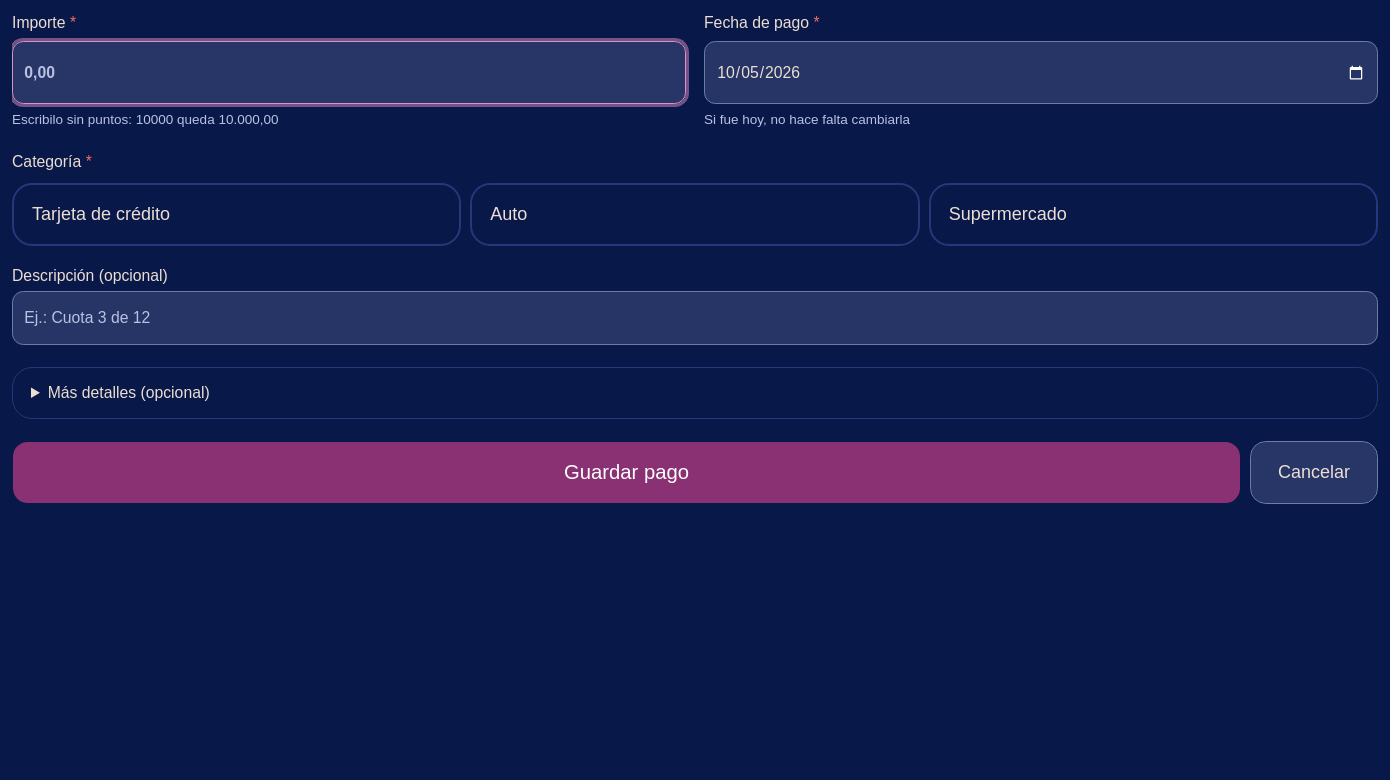
Formulario de pago › pide importe y categoría
The image size is (1390, 780).
What coordinates should you click on to do the following:
click the button "Guardar pago"
I would click on:
 (626, 473)
Its box is 12,442 -> 1241,504.
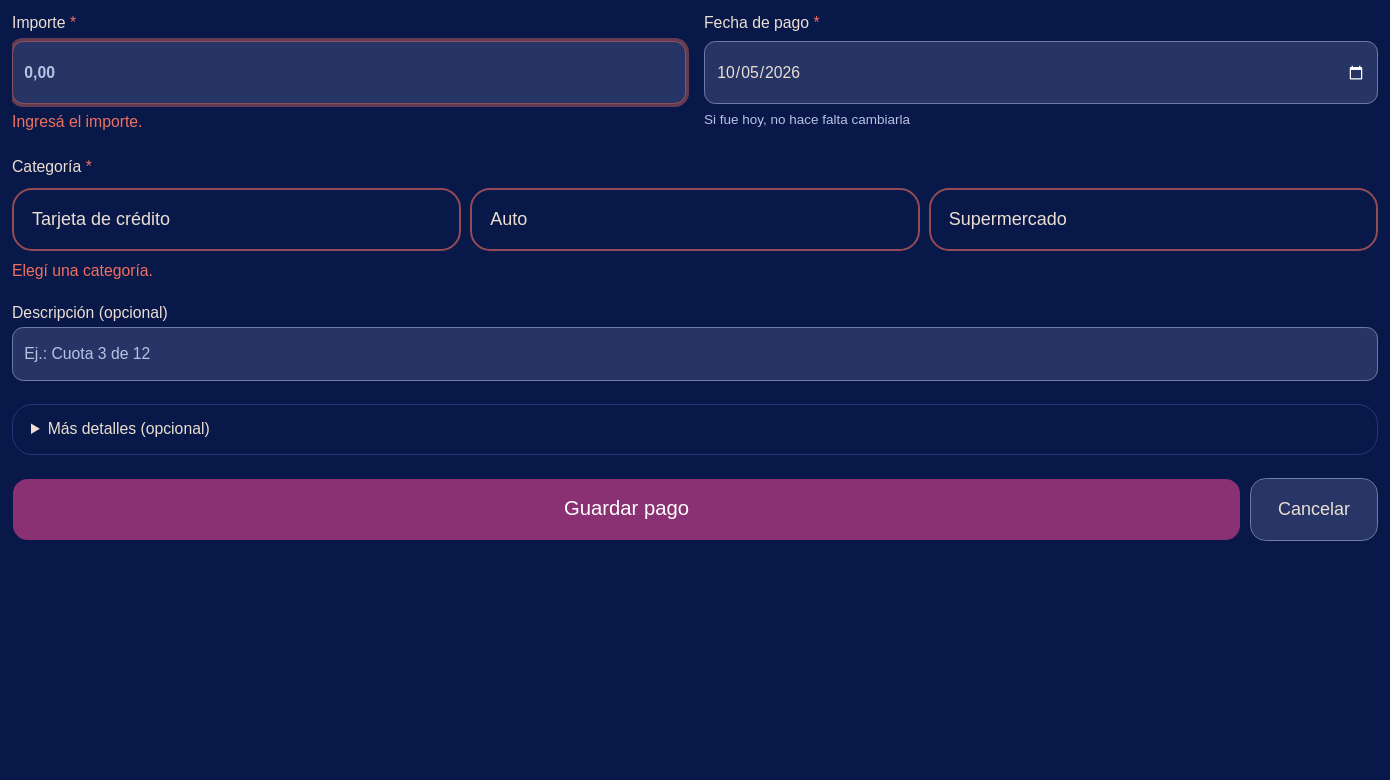
Check: the text "Ingresá el importe." is shown, box 12,113 -> 142,130
Check: the text "Elegí una categoría." is shown, box 12,262 -> 153,278
